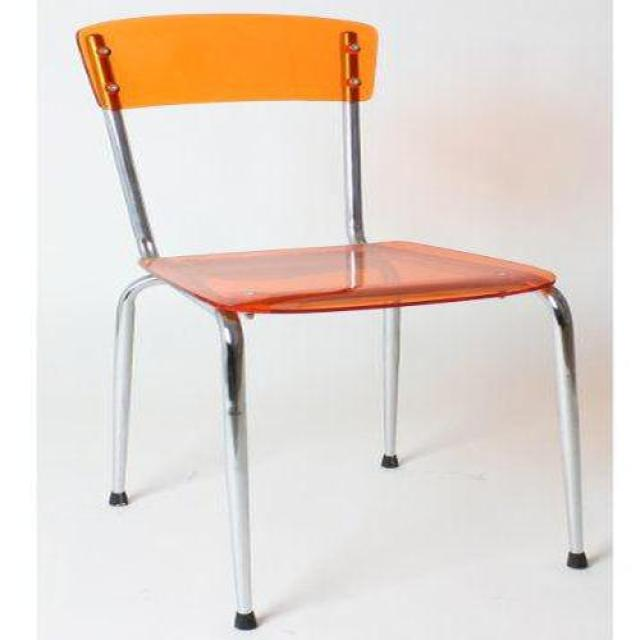chair: (76, 14, 589, 632)
